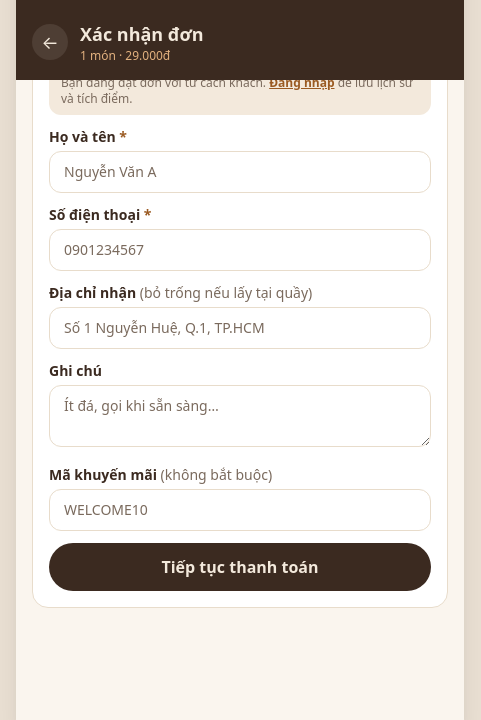
CheckoutScreen - xác nhận đơn › báo lỗi khi thiếu thông tin người nhận
(page scrolled)
Click the button "Tiếp tục thanh toán" at (240, 567), box [49,543,431,591]
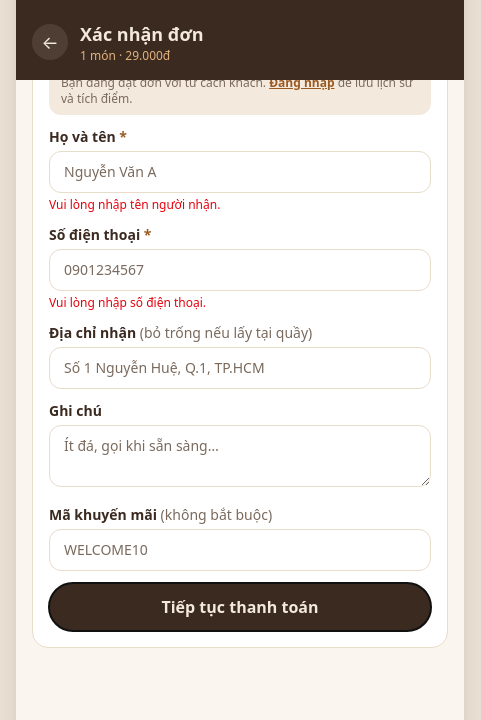
Check: the text "Vui lòng nhập tên người nhận." is shown, box [49,196,220,213]
Check: the text "Vui lòng nhập số điện thoại." is shown, box [49,294,206,311]
